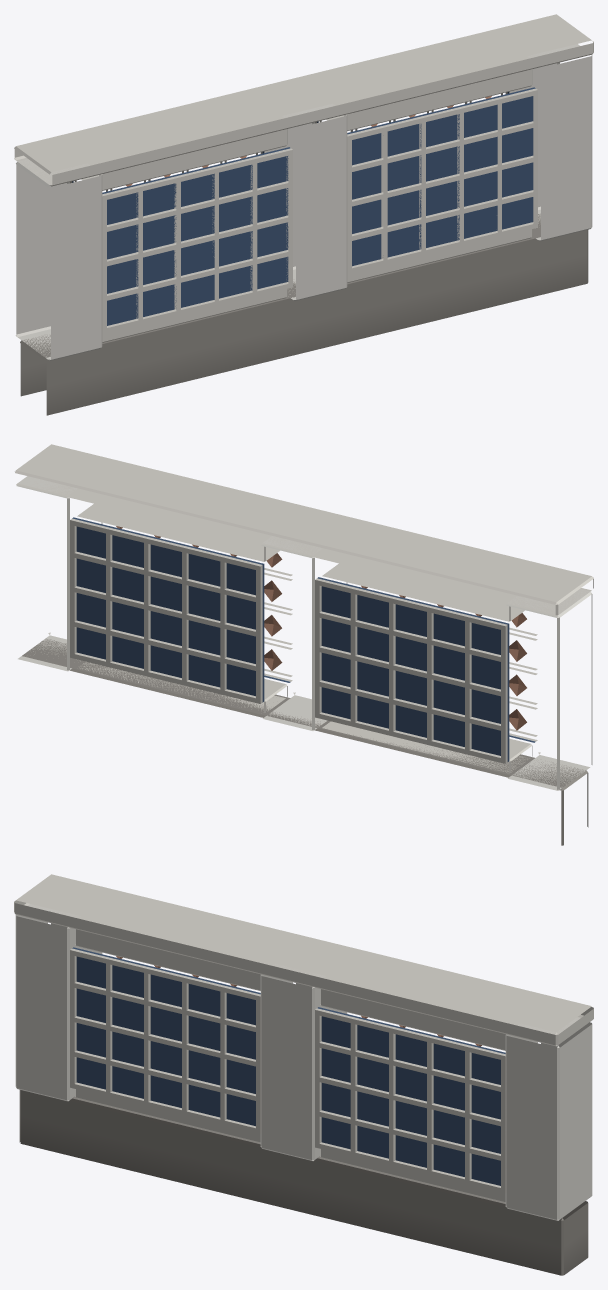
Rendered from gate_wall_bay.glb.
3 renders of one model, top to bottom at view 1: azimuth 30°, elevation 25°; view 2: azimuth 150°, elevation 25°; view 3: azimuth 330°, elevation 25°, orthographic.
Parts seen in each view (by area): view 1: gate_wall_bay; view 2: gate_wall_bay; view 3: gate_wall_bay.
Part boxes in pixels (x1,y1,x2,y2): gate_wall_bay: [14, 14, 593, 415]; gate_wall_bay: [15, 444, 593, 845]; gate_wall_bay: [14, 874, 593, 1275].
Size of the model in its own units: 6 by 2.6 by 0.72.
